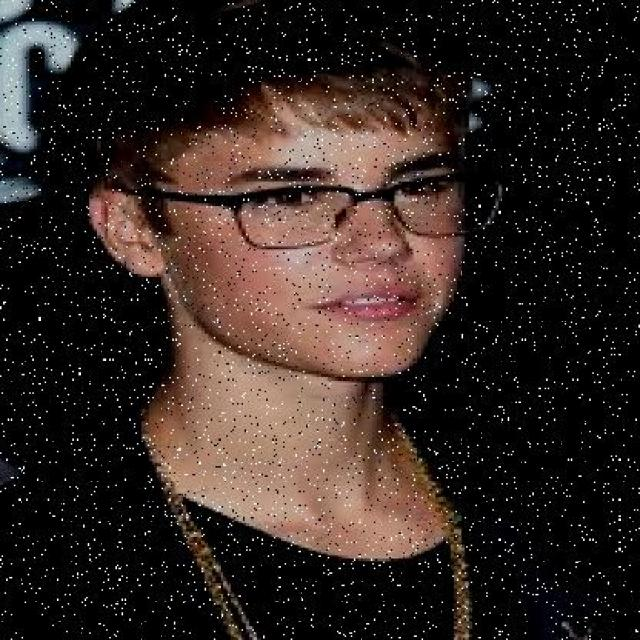glasses: (201, 168, 513, 252)
